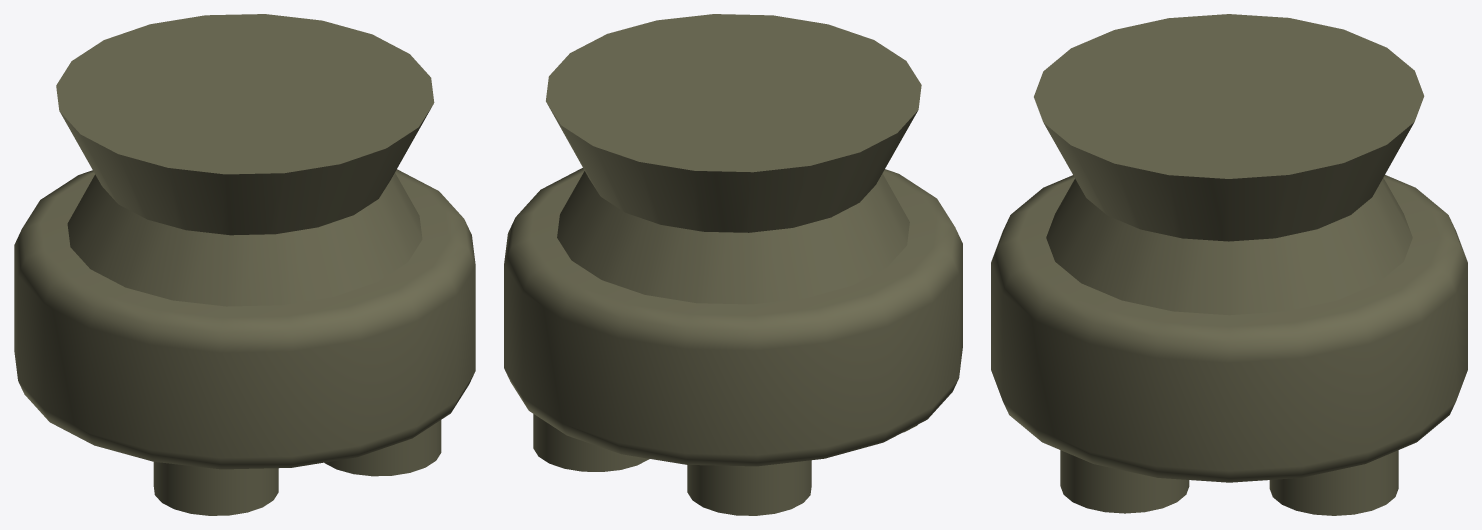
The model's file is Kristall_metall_trä_3.fbx.
3 renders of one model, left to right at view 1: azimuth 30°, elevation 25°; view 2: azimuth 150°, elevation 25°; view 3: azimuth 270°, elevation 25°, orthographic. The views are drawn at different scales.
Parts seen in each view (by area): view 1: pCylinder2, pCone1, pCone2, pCylinder7, pCylinder5; view 2: pCylinder2, pCone1, pCone2, pCylinder3, pCylinder6; view 3: pCylinder2, pCone1, pCone2, pCylinder6, pCylinder5.
Part boxes in pixels (<box>): pCylinder2: <box>14,169,475,469</box>; pCone1: <box>56,14,434,235</box>; pCone2: <box>67,173,422,306</box>; pCylinder7: <box>153,462,278,515</box>; pCylinder5: <box>324,420,441,476</box>; pCylinder2: <box>504,168,962,466</box>; pCone1: <box>546,14,921,232</box>; pCone2: <box>557,171,909,304</box>; pCylinder3: <box>687,460,811,515</box>; pCylinder6: <box>533,414,649,471</box>; pCylinder2: <box>991,175,1467,482</box>; pCone1: <box>1034,14,1424,241</box>; pCone2: <box>1046,178,1412,315</box>; pCylinder6: <box>1269,450,1398,515</box>; pCylinder5: <box>1060,450,1189,513</box>.
Bounding box in the file's own units: 1.82 × 1.47 × 1.82.
